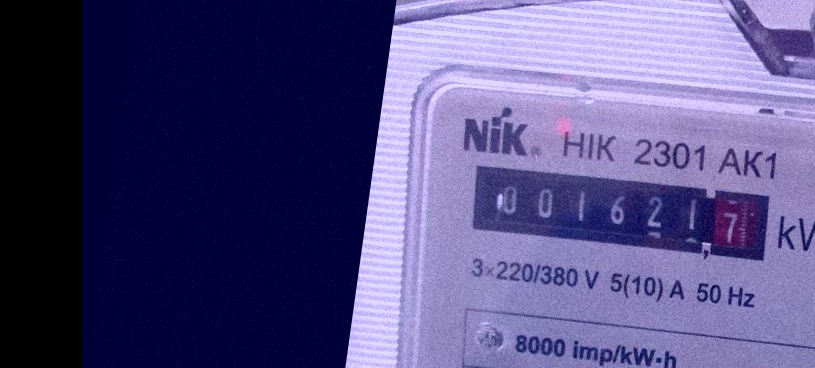0: (533, 182, 559, 222), (498, 180, 523, 216)
1: (684, 193, 702, 232), (573, 186, 591, 224)
2: (643, 192, 669, 230)
6: (607, 191, 630, 227)
7: (717, 207, 742, 246)
screen: (463, 151, 779, 274)
